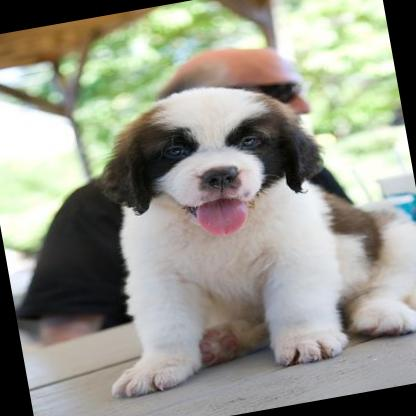Saint_Bernard: (54, 53, 416, 397)
